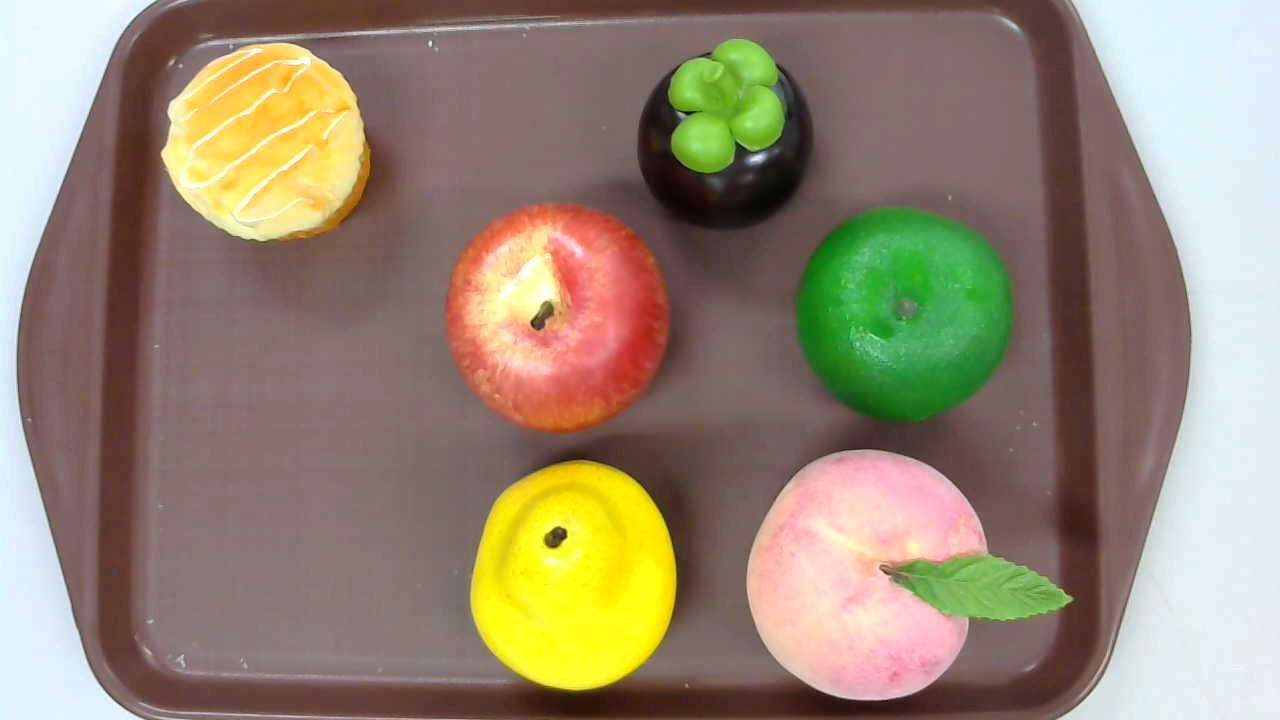cupcake: (161, 43, 372, 241)
green orange: (795, 204, 1013, 423)
mangosteen: (637, 37, 815, 231)
peaches: (746, 449, 1073, 703)
red apple: (444, 201, 672, 434)
yellow pear: (471, 459, 678, 692)
